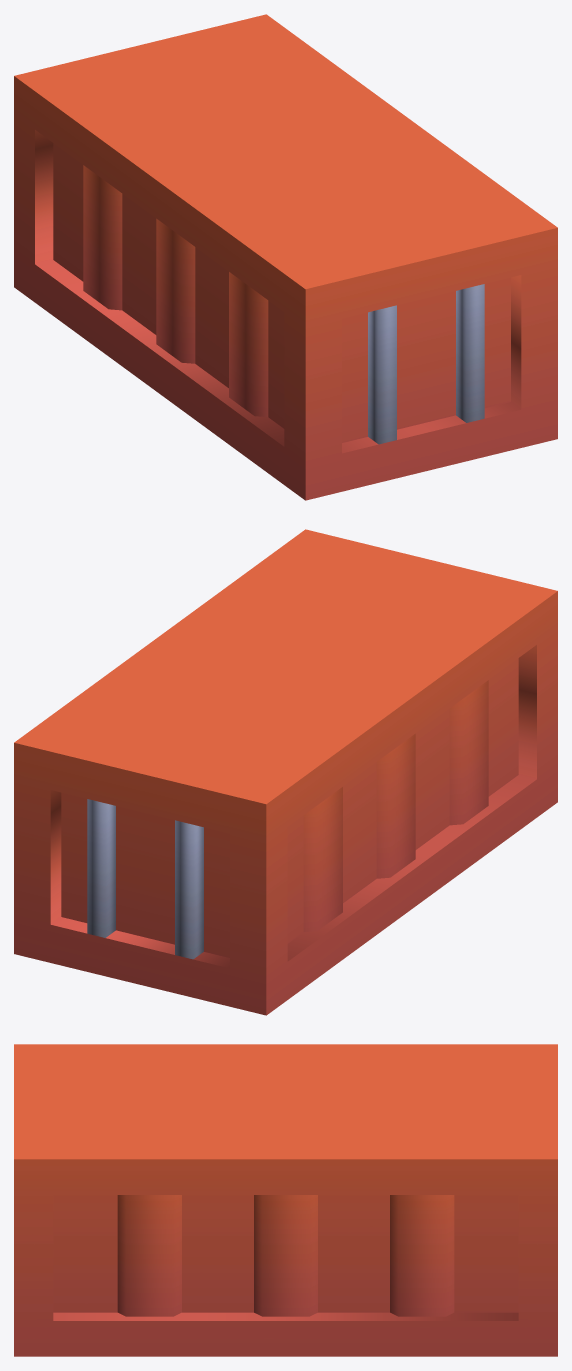
The model's file is cargo-container-a.glb.
3 views of the same model, one above another, from view 1: azimuth 30°, elevation 25°; view 2: azimuth 150°, elevation 25°; view 3: azimuth 270°, elevation 25° (orthographic). The views are drawn at different scales.
Visible parts, largest first — view 1: cargo-container-a; view 2: cargo-container-a; view 3: cargo-container-a.
Part boxes in pixels (left/top/right/bottom): cargo-container-a: left=14, top=14, right=557, bottom=500; cargo-container-a: left=14, top=529, right=557, bottom=1015; cargo-container-a: left=14, top=1044, right=557, bottom=1356.
Bounding box in the file's own units: 1.38 × 1.1 × 2.76.
1 material, 1 textured.
